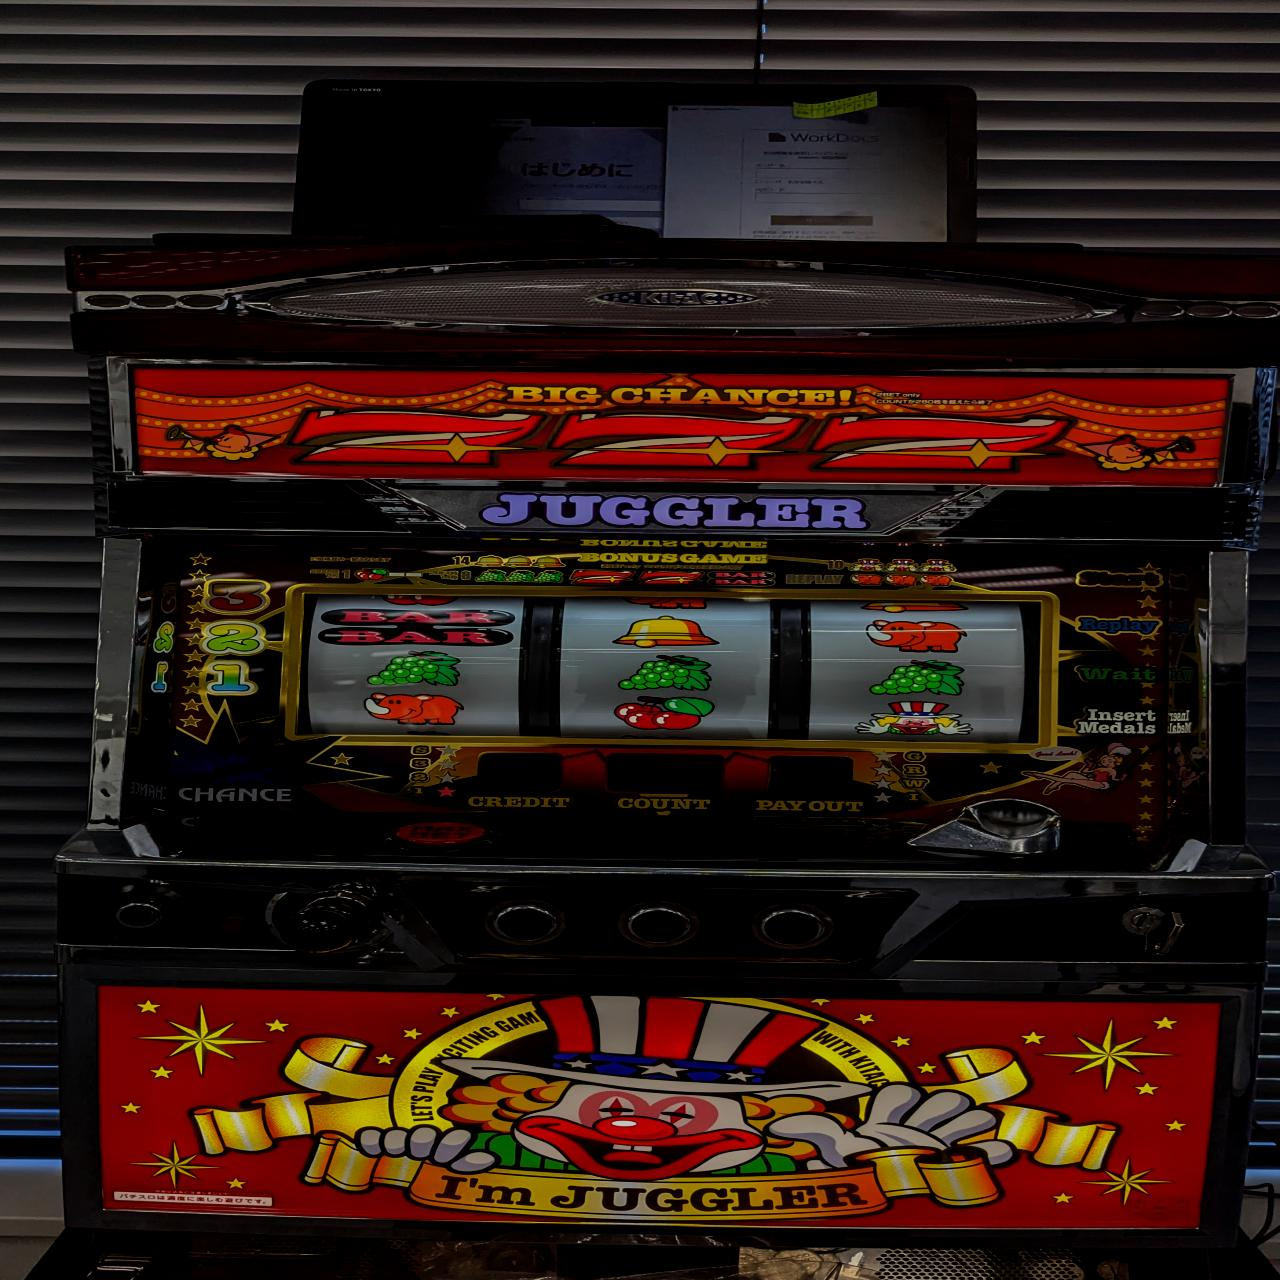8: (862, 619, 971, 653), (362, 693, 463, 728)
Display: (287, 583, 1055, 753)
bar: (319, 607, 513, 648)
bell: (610, 614, 720, 649)
cherry: (610, 695, 715, 729)
clown: (853, 701, 972, 737)
grape: (361, 651, 462, 687), (615, 655, 715, 692), (866, 660, 966, 696)
